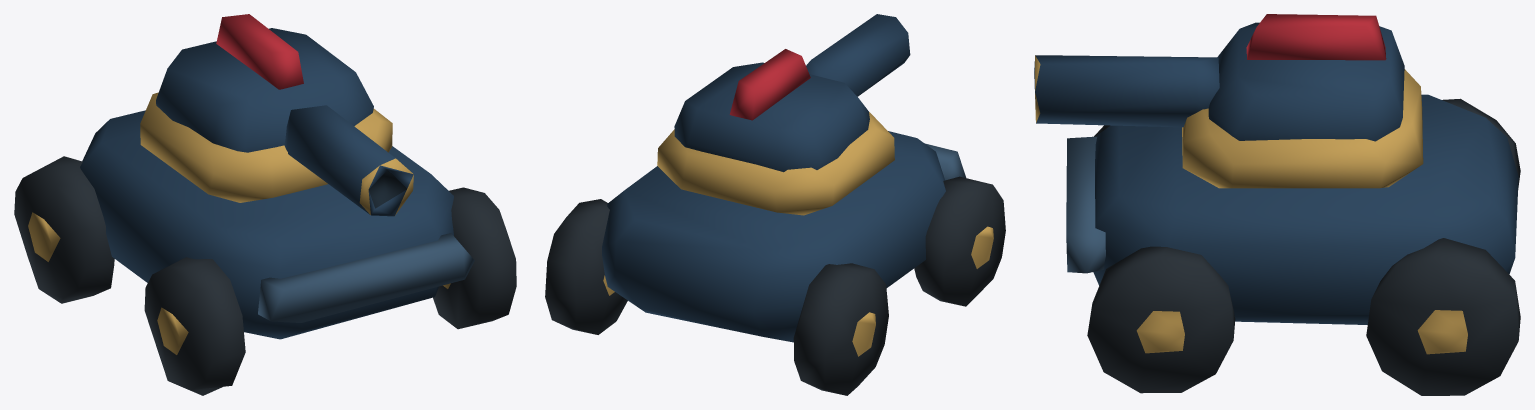
The model's file is TOY_HAZEL.shadow.glb.
3 renders of one model, left to right at view 1: azimuth 30°, elevation 25°; view 2: azimuth 150°, elevation 25°; view 3: azimuth 270°, elevation 25°, orthographic. The views are drawn at different scales.
Parts seen in each view (by area): view 1: Body, TurretYaw, WheelsFront, WheelsRear, BarrelRecoil; view 2: Body, TurretYaw, WheelsRear, WheelsFront, BarrelRecoil; view 3: Body, TurretYaw, WheelsRear, WheelsFront, BarrelRecoil.
Boxes of the visible parts, x1=… form: Body: x1=80, y1=110, x2=474, y2=339; TurretYaw: x1=140, y1=14, x2=392, y2=202; WheelsFront: x1=144, y1=187, x2=516, y2=395; WheelsRear: x1=14, y1=156, x2=114, y2=303; BarrelRecoil: x1=284, y1=105, x2=413, y2=216; Body: x1=602, y1=131, x2=966, y2=342; TurretYaw: x1=657, y1=49, x2=894, y2=215; WheelsRear: x1=545, y1=199, x2=888, y2=395; WheelsFront: x1=914, y1=176, x2=1005, y2=306; BarrelRecoil: x1=806, y1=14, x2=910, y2=96; Body: x1=1066, y1=94, x2=1518, y2=324; TurretYaw: x1=1182, y1=14, x2=1423, y2=188; WheelsRear: x1=1366, y1=98, x2=1520, y2=395; WheelsFront: x1=1087, y1=125, x2=1235, y2=393; BarrelRecoil: x1=1034, y1=55, x2=1219, y2=127.
Size of the model in its own units: 0.7443 by 0.5951 by 0.8796.
